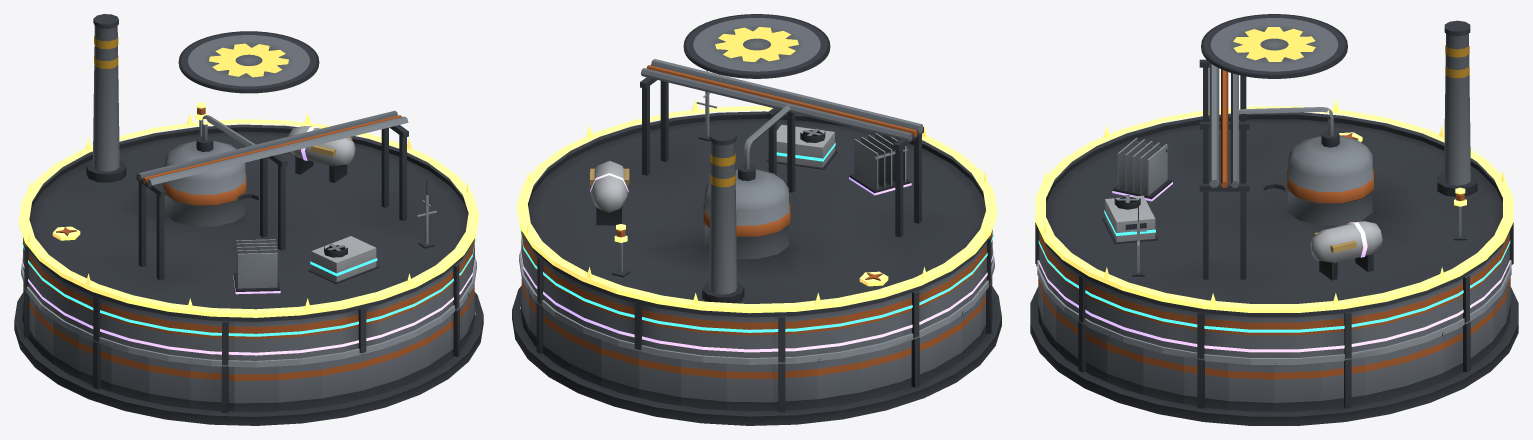
The model's file is polymer_plant_s_far.glb.
The picture shows the model from 3 angles, left to right: view 1: azimuth 30°, elevation 25°; view 2: azimuth 150°, elevation 25°; view 3: azimuth 270°, elevation 25°; orthographic projection. The views are drawn at different scales.
Visible parts, largest first — view 1: Roof, Base, L5, L4, L3, L2; view 2: Roof, Base, L5, L4, L2, L3; view 3: Roof, Base, L5, L4, L2, L3.
Part boxes in pixels (x1=…): Roof: x1=23, y1=14, x2=474, y2=365; Base: x1=14, y1=282, x2=483, y2=425; L5: x1=19, y1=102, x2=478, y2=317; L4: x1=22, y1=126, x2=475, y2=355; L3: x1=22, y1=193, x2=475, y2=336; L2: x1=21, y1=180, x2=476, y2=367; Roof: x1=521, y1=14, x2=992, y2=362; Base: x1=512, y1=277, x2=1001, y2=425; L5: x1=517, y1=99, x2=996, y2=313; L4: x1=520, y1=133, x2=993, y2=352; L2: x1=519, y1=70, x2=994, y2=364; L3: x1=520, y1=124, x2=993, y2=332; Roof: x1=1035, y1=14, x2=1513, y2=358; Base: x1=1030, y1=264, x2=1518, y2=425; L5: x1=1035, y1=99, x2=1513, y2=312; L4: x1=1038, y1=137, x2=1510, y2=352; L2: x1=1037, y1=206, x2=1511, y2=364; L3: x1=1038, y1=183, x2=1510, y2=332.
Bounding box in the file's own units: 11.74 × 7.38 × 11.74.
